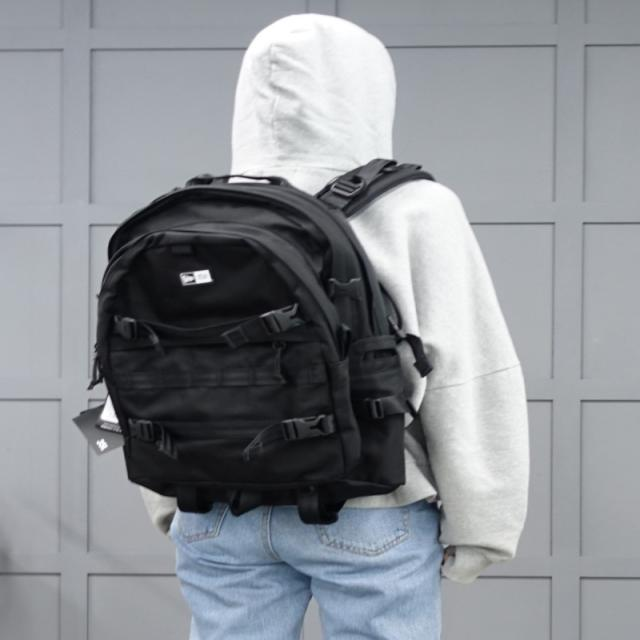backpack: (68, 172, 425, 527)
